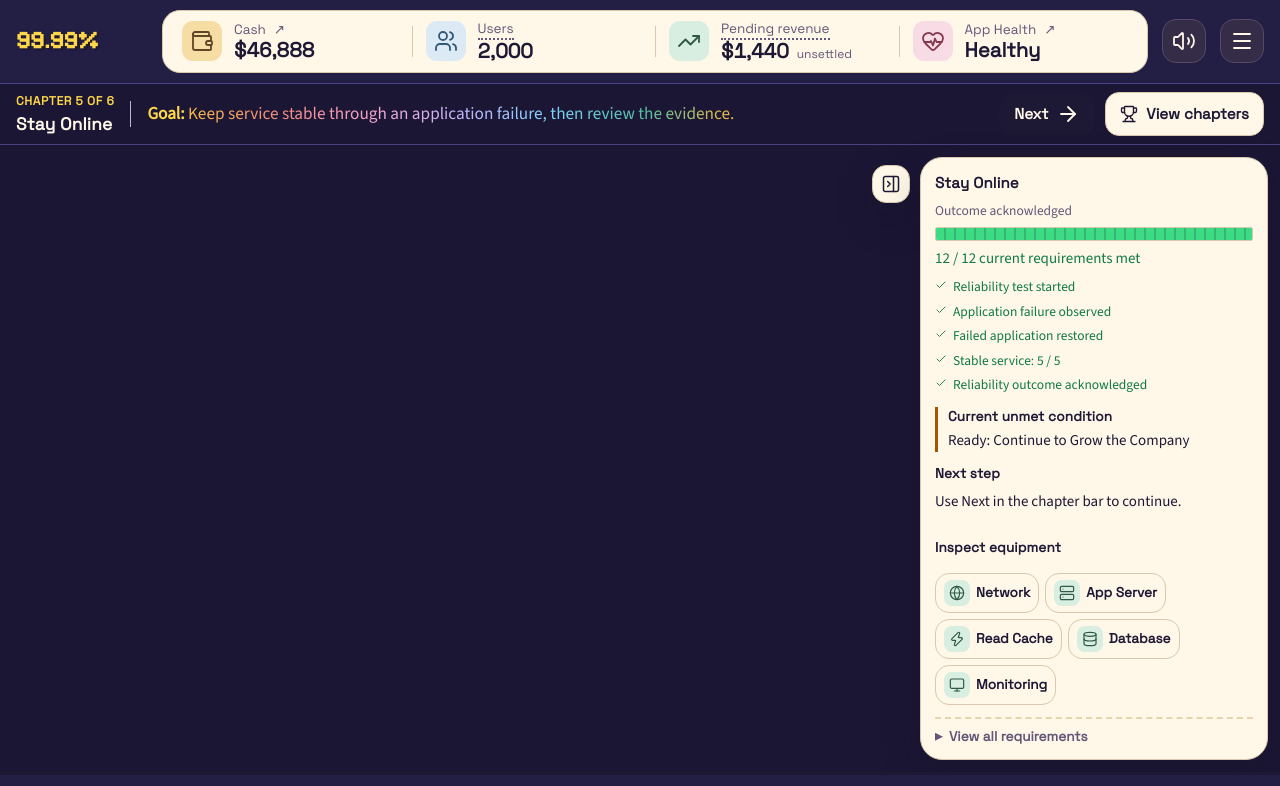
shows completed Reliability and available combined continuation without a new tree or reward
Click the button "View chapters": (1185, 114) 1105,92 -> 1264,136
(page scrolled)
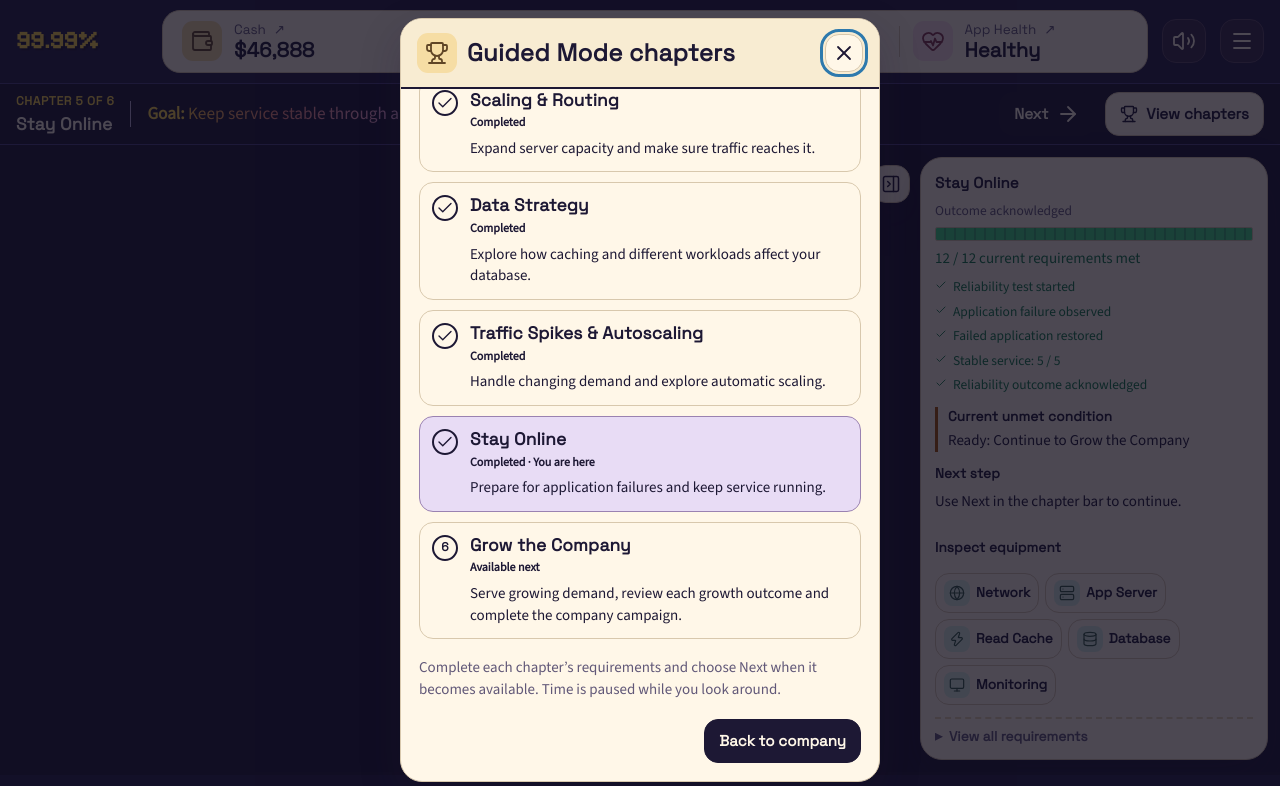
Click the button "Back to company": (783, 741) 704,719 -> 861,763
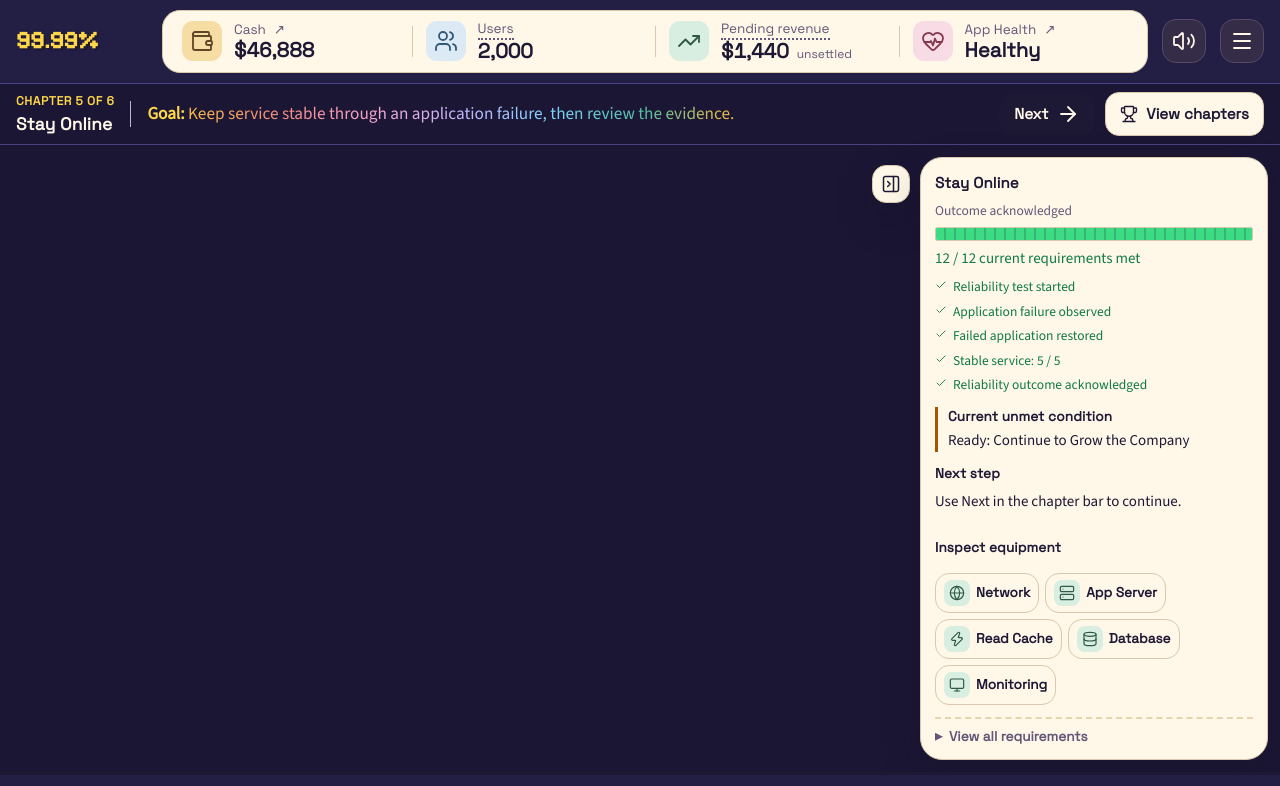
Click the button "View chapters": (1185, 114) 1105,92 -> 1264,136
(page scrolled)
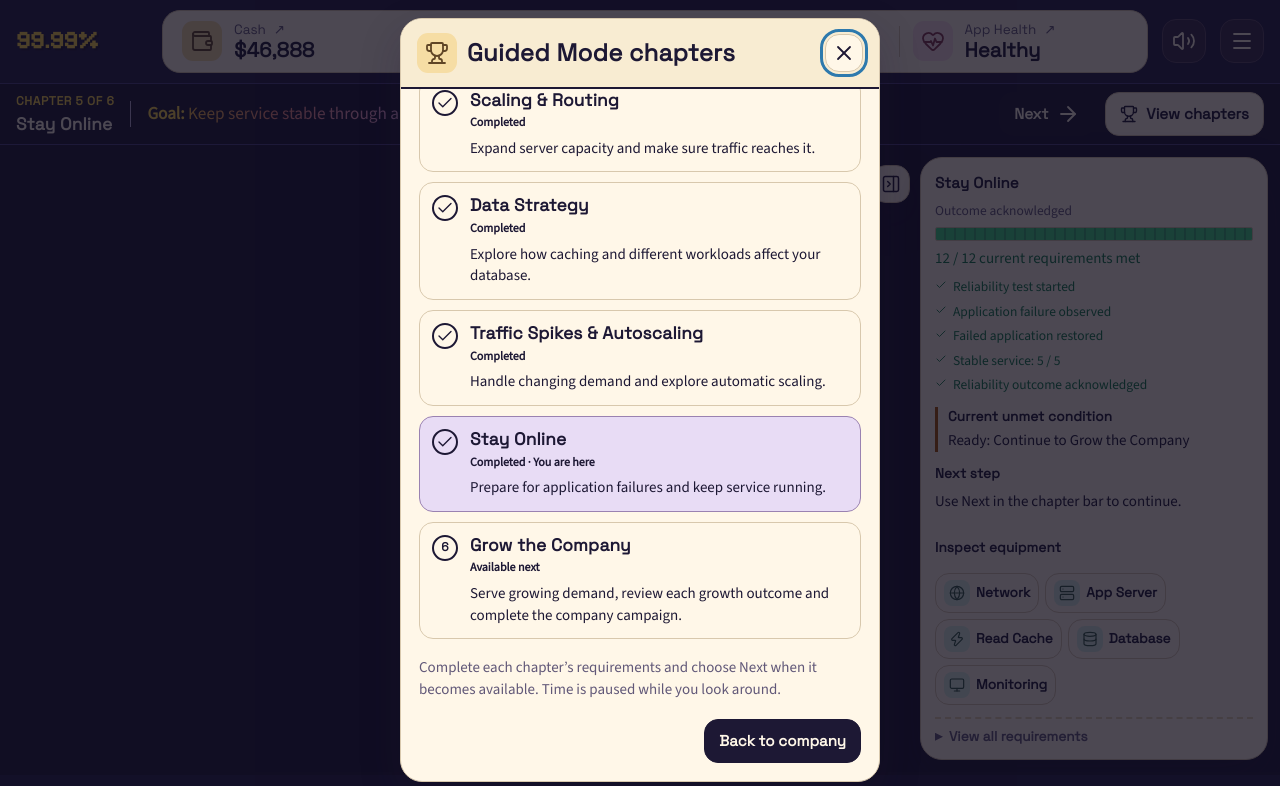
Click the button "Back to company": (783, 741) 704,719 -> 861,763
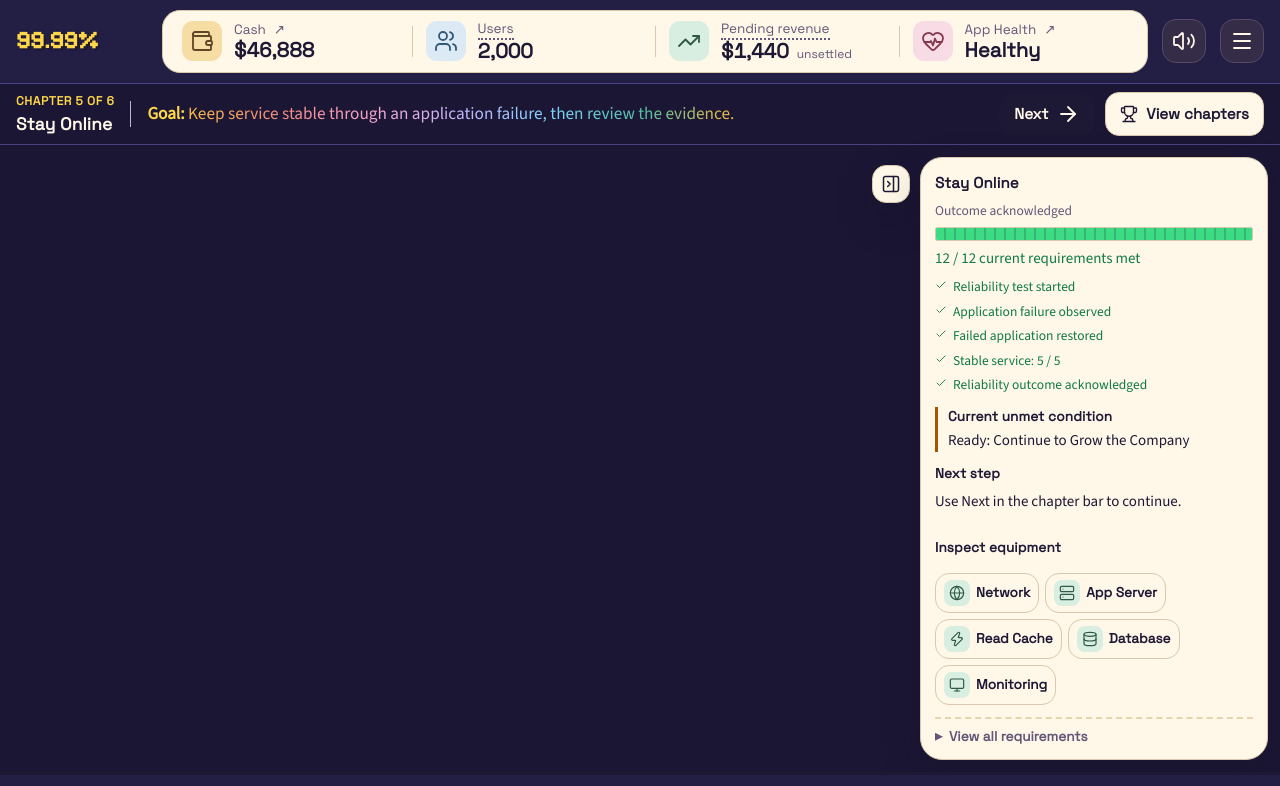
Click the button with aria-label "Next: Continue to Grow the Company": (1047, 114) 999,92 -> 1095,136
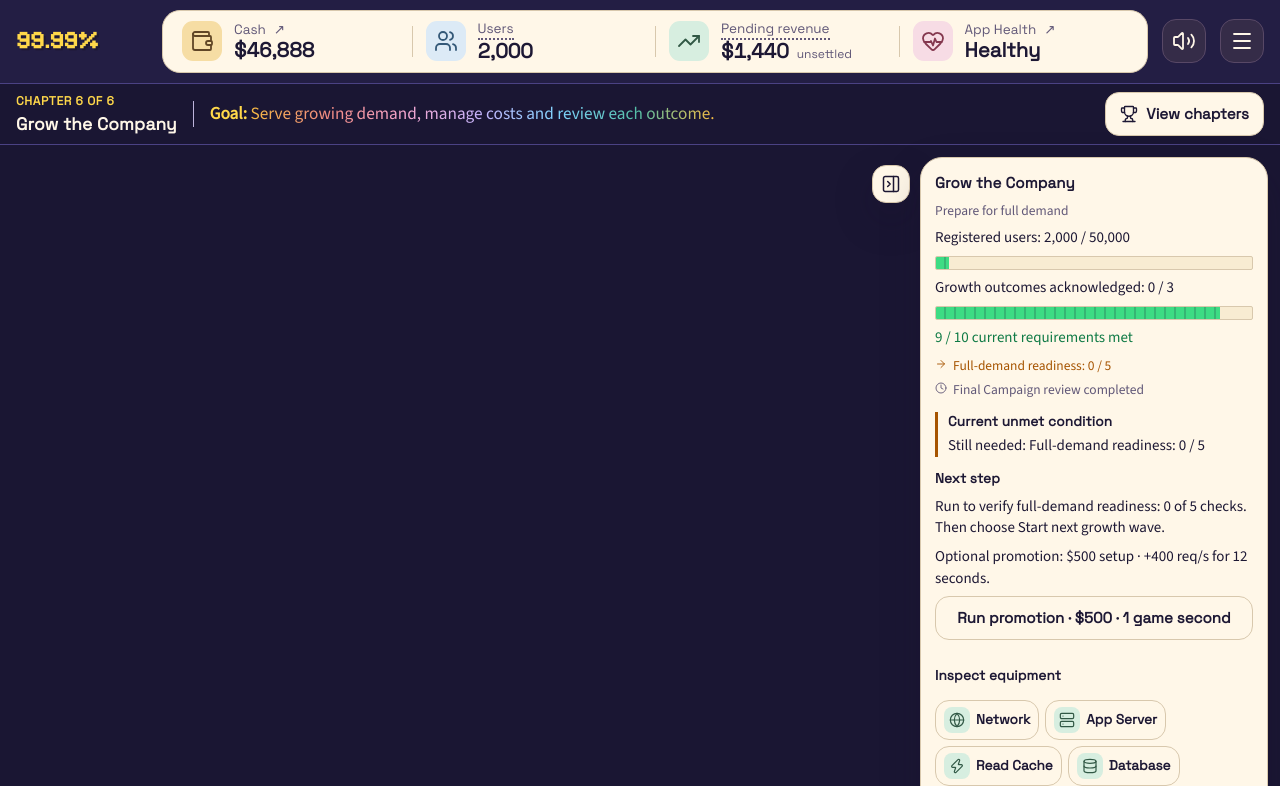
Check: the heading named "Current chapter" reads "Grow the Company", box 16,113 -> 177,135
